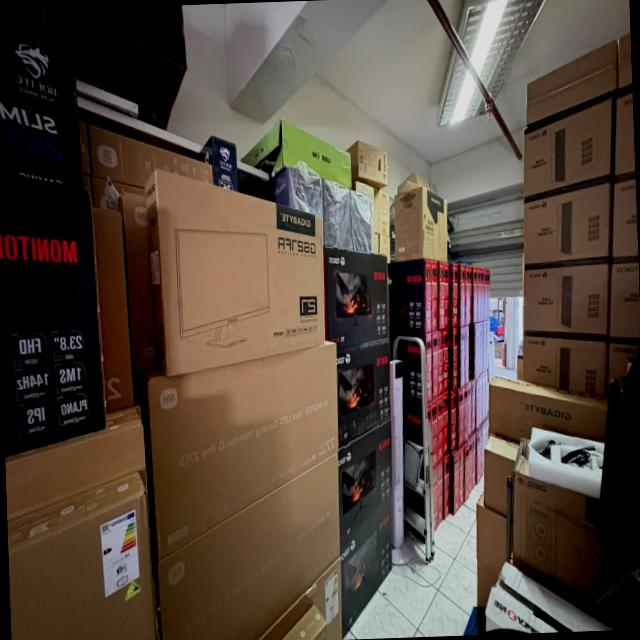caja-monitor: (142, 343, 336, 563), (144, 169, 326, 380), (157, 454, 340, 640), (0, 173, 106, 457), (7, 472, 153, 640), (7, 412, 145, 520), (91, 206, 132, 412), (89, 120, 213, 187), (337, 416, 392, 554), (340, 499, 392, 639), (257, 559, 341, 640), (324, 245, 388, 347), (118, 193, 153, 370), (336, 339, 390, 447), (387, 260, 431, 333), (280, 603, 328, 640), (449, 449, 459, 515), (448, 262, 458, 327), (469, 322, 479, 380), (448, 327, 457, 390), (448, 389, 456, 452), (431, 260, 438, 331), (431, 398, 438, 468), (431, 330, 438, 399), (436, 459, 443, 526), (457, 262, 464, 327), (457, 326, 464, 388), (438, 261, 444, 329), (437, 395, 443, 462), (443, 454, 449, 520), (442, 328, 448, 392), (457, 386, 463, 450), (443, 389, 448, 457), (438, 329, 443, 396), (459, 445, 464, 507), (463, 383, 468, 445), (463, 441, 468, 502), (464, 265, 469, 325), (464, 326, 469, 384), (472, 265, 477, 323), (444, 262, 448, 328), (468, 436, 472, 495), (467, 381, 471, 438), (477, 266, 481, 322), (480, 268, 483, 321), (480, 322, 482, 373)
